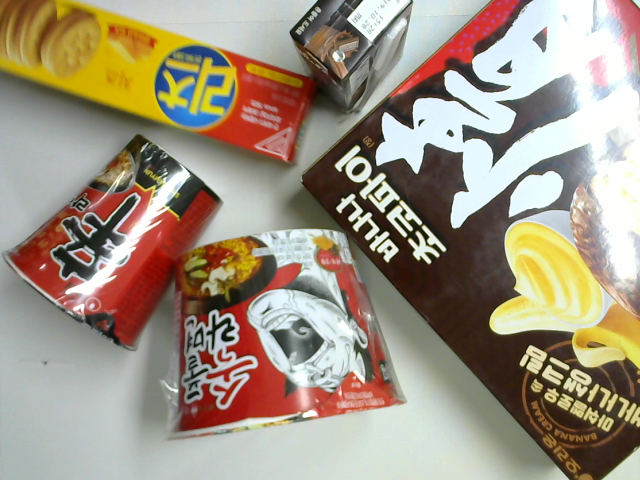Choco_Pie_Banana: (300, 1, 640, 480)
Hejangpul: (162, 227, 409, 440)
Hush_Choco_Drink: (288, 1, 416, 119)
Ritz_Sand_Cracker: (1, 1, 321, 170)
Sinramen_small: (1, 131, 226, 353)
